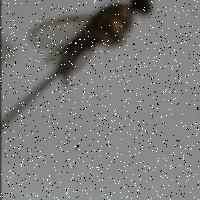Oriental-fruit-fly: (21, 0, 166, 95)
